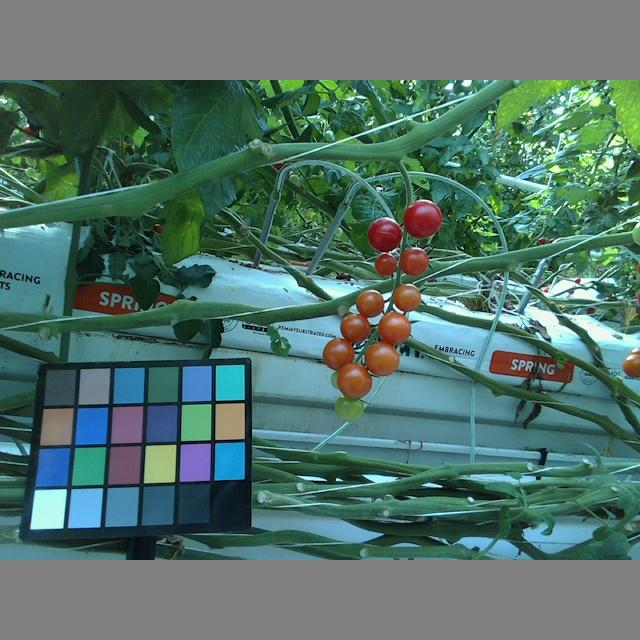green: (332, 394, 365, 421)
pink: (335, 360, 373, 402), (378, 311, 414, 347), (366, 340, 401, 377), (321, 337, 358, 369), (339, 312, 372, 345), (356, 288, 385, 319), (393, 283, 421, 312)
red: (401, 201, 442, 238), (369, 216, 401, 251), (401, 247, 428, 275), (373, 254, 399, 276)
